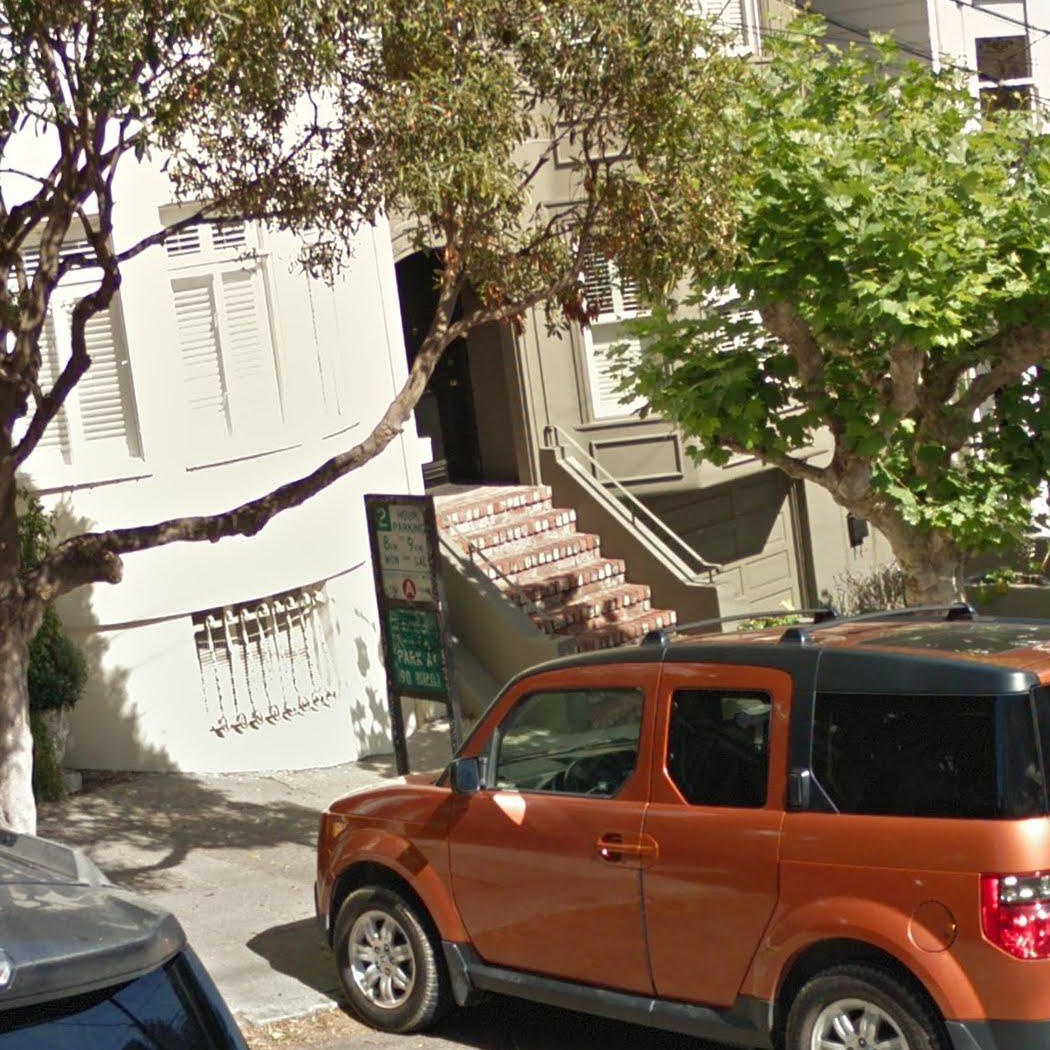2 Hour Parking: (372, 502, 435, 603)
